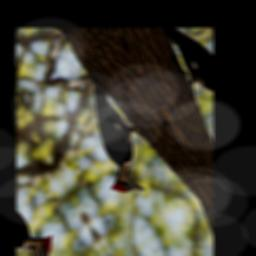Woodpecker: (48, 49, 171, 210)
